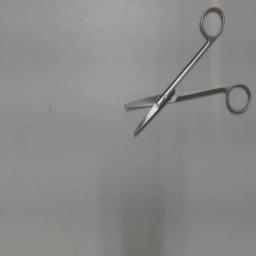Curved Mayo Scissors: (120, 4, 254, 142)
